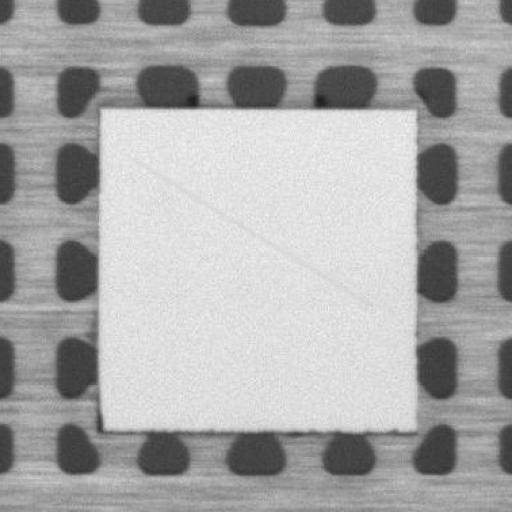DIE_CRACK: (132, 154, 379, 301)
